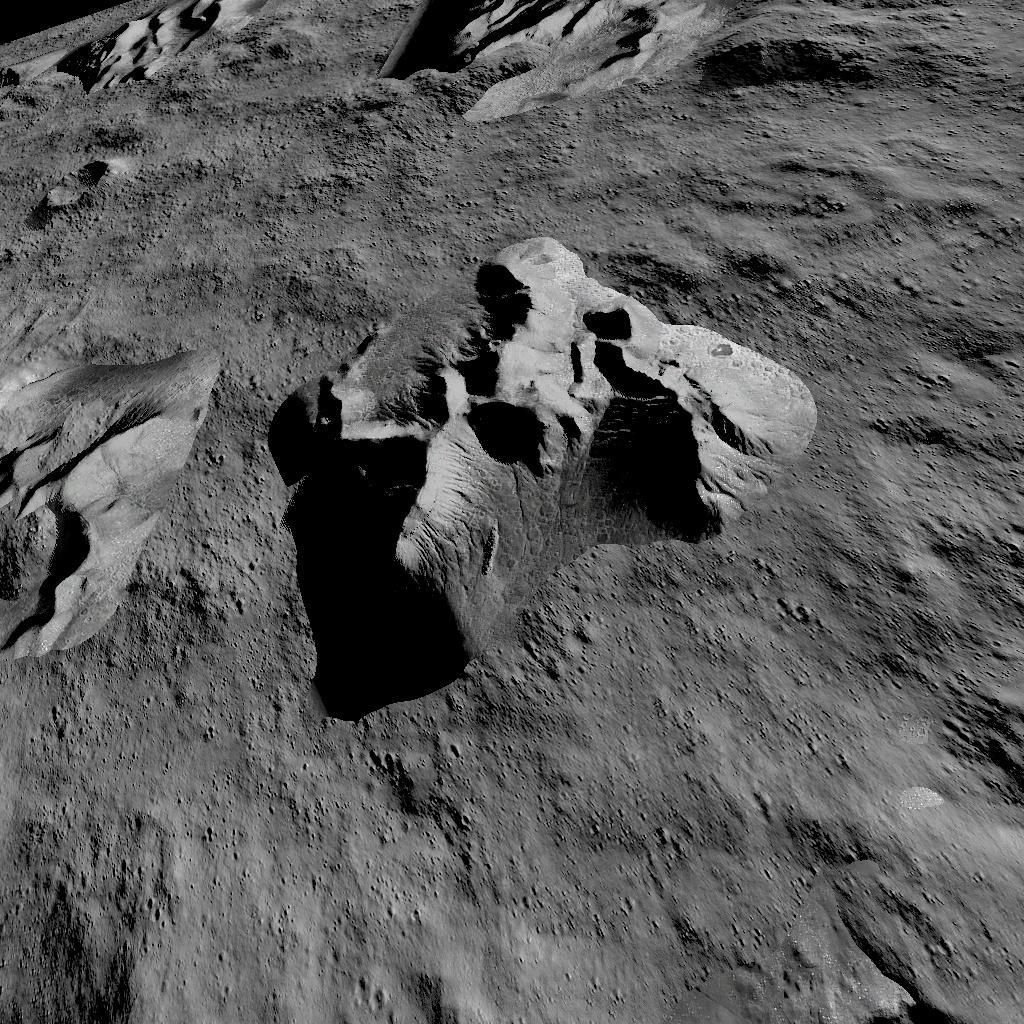Boulders: (264, 224, 820, 710), (0, 332, 222, 663), (373, 0, 710, 111), (0, 0, 227, 103), (721, 2, 881, 92)
Crater: (767, 917, 1024, 1024), (19, 142, 123, 220), (962, 690, 1022, 806), (246, 6, 294, 60)
Plan surface: (12, 737, 736, 1024), (836, 232, 1020, 652), (144, 124, 1024, 202), (760, 733, 936, 892), (8, 234, 250, 312), (901, 2, 1024, 108)
